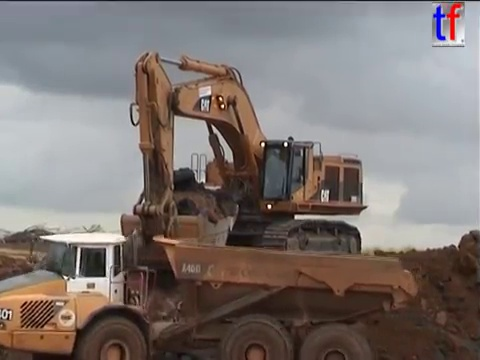excavator: (117, 48, 372, 269)
truck: (1, 227, 421, 360)
